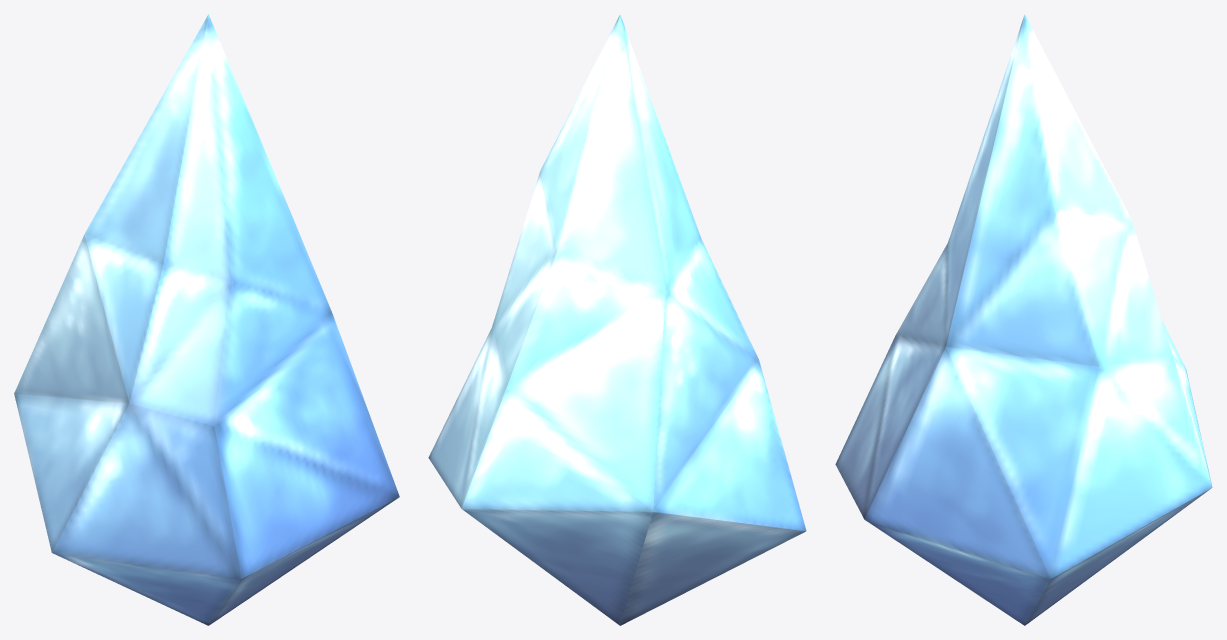
Rendered from Crystal.fbx.
3 renders of one model, left to right at view 1: azimuth 30°, elevation 25°; view 2: azimuth 150°, elevation 25°; view 3: azimuth 270°, elevation 25°, orthographic.
Visible parts, largest first — view 1: Crystal; view 2: Crystal; view 3: Crystal.
Boxes of the visible parts, x1,y1,x2,y2 form: Crystal: [14, 14, 399, 625]; Crystal: [428, 14, 806, 625]; Crystal: [835, 14, 1212, 625].
Bounding box in the file's own units: 81.15 × 135 × 75.64.
1 material, 1 textured.
